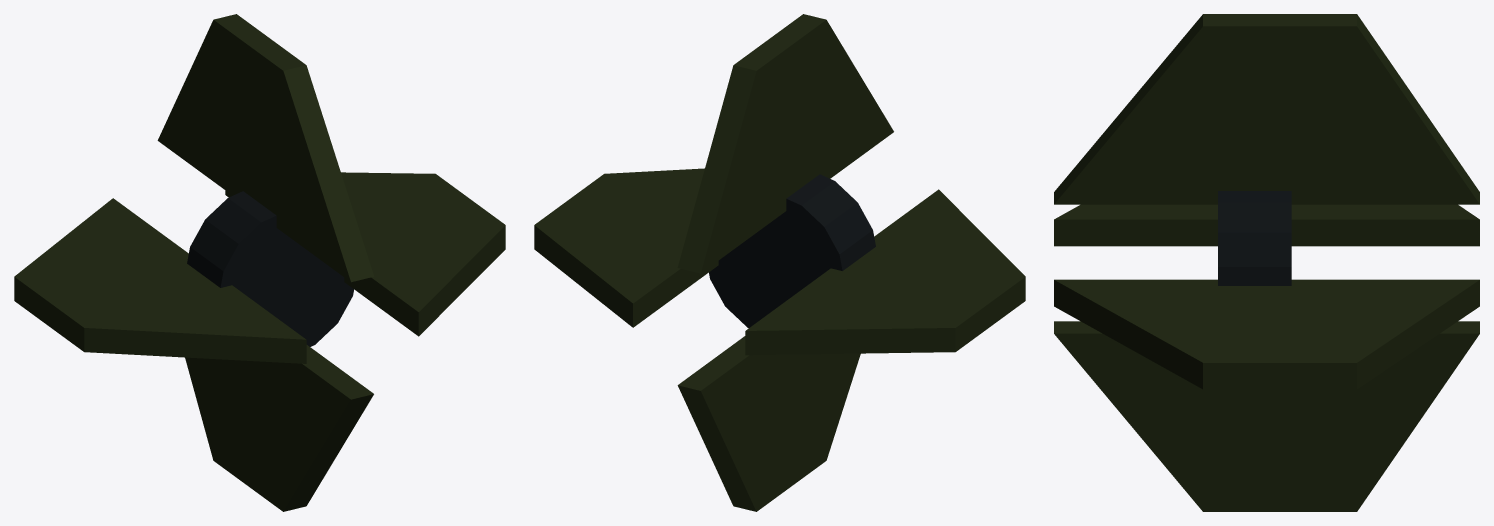
File: BombLight__Tail.obj
The picture shows the model from 3 angles, left to right: view 1: azimuth 30°, elevation 25°; view 2: azimuth 150°, elevation 25°; view 3: azimuth 270°, elevation 25°; orthographic projection. The views are drawn at different scales.
Parts seen in each view (by area): view 1: Tail_stabilizer.001, Tail_stabilizer.002, Tail_stabilizer.003, Tail_stabilizer, Tail_collar; view 2: Tail_stabilizer.001, Tail_stabilizer.002, Tail_stabilizer.003, Tail_stabilizer, Tail_collar; view 3: Tail_stabilizer.001, Tail_stabilizer.003, Tail_stabilizer, Tail_stabilizer.002, Tail_collar.
Part boxes in pixels (box(x1,y1,x2,y2)): Tail_stabilizer.001: box(157, 14, 373, 282); Tail_stabilizer.002: box(14, 198, 306, 363); Tail_stabilizer.003: box(185, 345, 373, 511); Tail_stabilizer: box(225, 172, 505, 336); Tail_collar: box(187, 191, 353, 346); Tail_stabilizer.001: box(677, 14, 893, 273); Tail_stabilizer.002: box(745, 189, 1025, 355); Tail_stabilizer.003: box(677, 336, 860, 511); Tail_stabilizer: box(534, 168, 718, 327); Tail_collar: box(709, 174, 875, 328); Tail_stabilizer.001: box(1054, 14, 1479, 204); Tail_stabilizer.003: box(1054, 321, 1479, 511); Tail_stabilizer: box(1054, 279, 1479, 389); Tail_stabilizer.002: box(1054, 204, 1479, 246); Tail_collar: box(1218, 191, 1291, 285).
Bounding box in the file's own units: 0.654 × 0.654 × 0.52.
